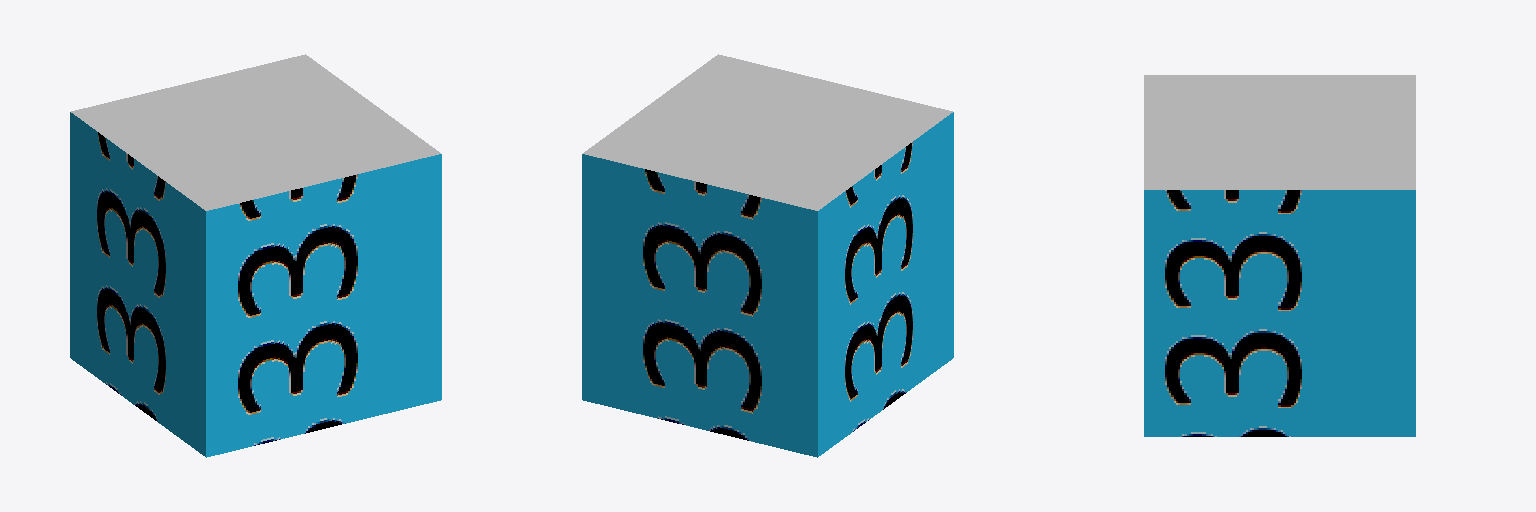
3 views of the same model, side by side, from view 1: azimuth 30°, elevation 25°; view 2: azimuth 150°, elevation 25°; view 3: azimuth 270°, elevation 25° (orthographic).
Parts seen in each view (by area): view 1: Cube; view 2: Cube; view 3: Cube.
Part boxes in pixels (x1,y1,x2,y2): Cube: (70, 54, 441, 457); Cube: (582, 54, 953, 457); Cube: (1144, 75, 1415, 436).
Bounding box in the file's own units: 2 × 2 × 2.
2 materials, 1 textured.